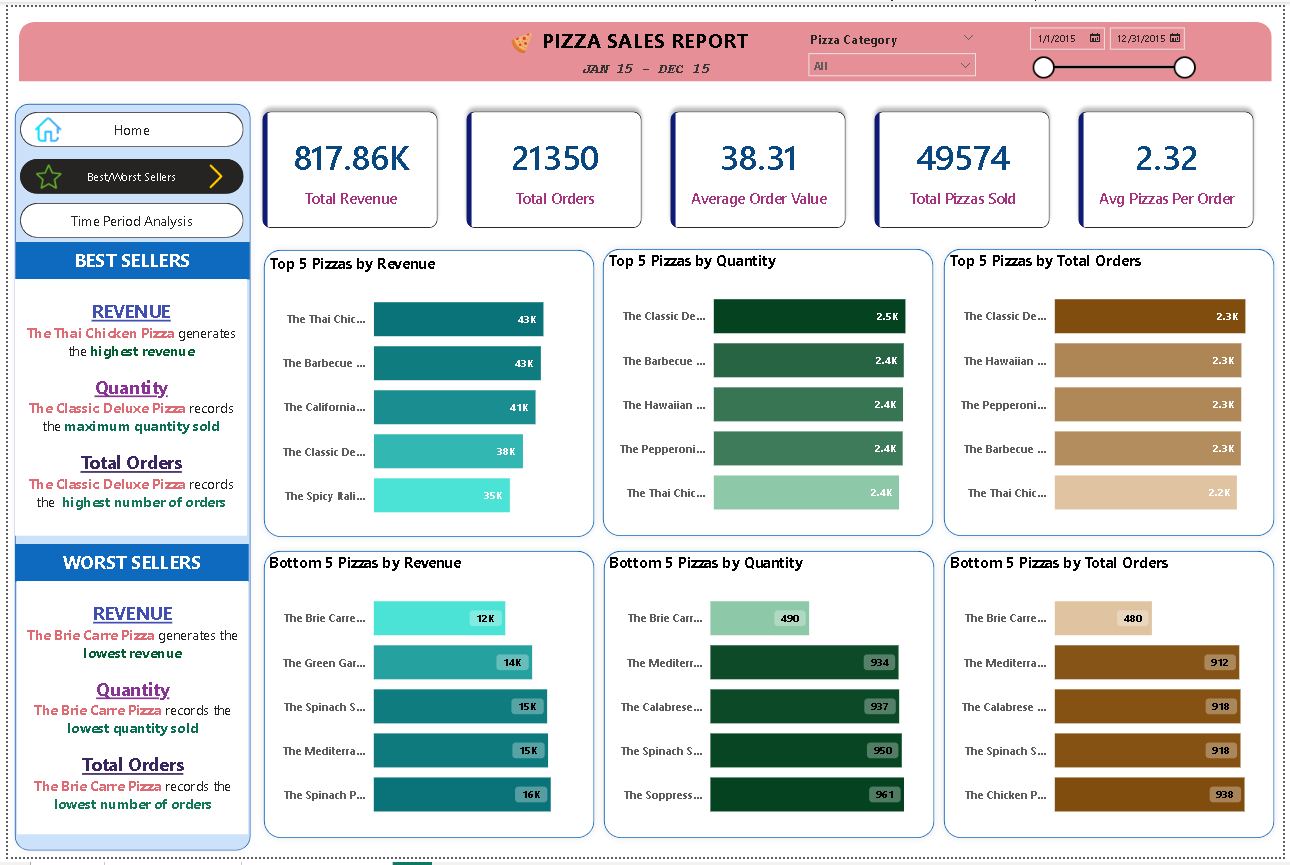

Layout of this report page (visuals, bound fields, positions):
{"tool":"powerbi","page":{"name":"Best/Worst Sellers","canvas":[1500,1000],"ordinal":1},"visuals":[{"type":"cardVisual","fields":{"Data":["Pizza_Sales.Total Revenue","Pizza_Sales.Total Orders","Pizza_Sales.Average Order Value","Pizza_Sales.Total Pizzas Sold","Pizza_Sales.Average Pizzas Per Order"]},"box":[282.1,105.4,1203.6,171.4],"z":0},{"type":"shape","box":[12.5,17.5,1473.8,70],"z":1000},{"type":"textbox","box":[605,17.5,290,56.2],"z":2000},{"type":"textbox","box":[668.3,58.3,163.3,30],"z":3000},{"type":"shape","box":[292.9,277.1,405,354],"z":4000},{"type":"shape","box":[0,105.6,293.3,894.4],"z":5000},{"type":"textbox","box":[9,277,275,44],"z":6000},{"type":"textbox","box":[8.3,320,273.3,301.7],"z":7000},{"type":"textbox","box":[8.8,631.2,275,43.8],"z":8000},{"type":"textbox","box":[10,675.6,272.2,297.8],"z":9000},{"type":"slicer","fields":{"Values":["Pizza_Sales.pizza_category"]},"box":[932.2,22.2,216.7,60],"z":10000},{"type":"slicer","fields":{"Values":["Pizza_Sales.order_date"]},"box":[1188.9,14.4,215.6,74.4],"z":11000},{"type":"shape","box":[692.2,276.7,405,354],"z":12000},{"type":"shape","box":[1093.3,276.7,405,354],"z":13000},{"type":"shape","box":[292.9,631.4,405,354],"z":14000},{"type":"shape","box":[692.9,631.4,405,354],"z":15000},{"type":"shape","box":[1092.9,631.4,405,354],"z":16000},{"type":"clusteredBarChart","title":"Top 5 Pizzas by Revenue","fields":{"Y":["Pizza_Sales.Total Revenue"],"Category":["Pizza_Sales.pizza_name"]},"box":[303,290,383,331],"z":17000},{"type":"clusteredBarChart","title":"Top 5 Pizzas by Quantity","fields":{"Y":["Sum(Pizza_Sales.quantity)"],"Category":["Pizza_Sales.pizza_name"]},"box":[702.5,287.5,383.8,331.2],"z":18000},{"type":"clusteredBarChart","title":"Top 5 Pizzas by Total Orders","fields":{"Category":["Pizza_Sales.pizza_name"],"Y":["Pizza_Sales.Total Orders"]},"box":[1103.8,287.5,383.8,331.2],"z":19000},{"type":"clusteredBarChart","title":"Bottom 5 Pizzas by Revenue","fields":{"Y":["Pizza_Sales.Total Revenue"],"Category":["Pizza_Sales.pizza_name"]},"box":[302.5,642.5,383.8,331.2],"z":20000},{"type":"clusteredBarChart","title":"Bottom 5 Pizzas by Quantity","fields":{"Y":["Sum(Pizza_Sales.quantity)"],"Category":["Pizza_Sales.pizza_name"]},"box":[702.5,642.5,383.8,331.2],"z":21000},{"type":"clusteredBarChart","title":"Bottom 5 Pizzas by Total Orders","fields":{"Category":["Pizza_Sales.pizza_name"],"Y":["Pizza_Sales.Total Orders"]},"box":[1103.8,642.5,383.8,331.2],"z":22000},{"type":"pageNavigator","box":[13.8,124,263.8,41.2],"z":23000},{"type":"pageNavigator","box":[13.8,179,263.8,41.2],"z":24000},{"type":"pageNavigator","box":[13.8,230,263.8,41.2],"z":25000},{"type":"image","box":[228.7,184.7,33.3,28.7],"z":26000},{"type":"image","box":[32.4,128.8,30.6,31.8],"z":27000},{"type":"image","box":[32.5,184,30,31],"z":28000},{"type":"image","box":[592.3,26.9,25.4,31.5],"z":29000}]}

Visuals, with their boxes in screenshot pixels (x1, y1, x2, y2), scaled from the page's 1500x1000 canvas onto the 1290x865 screenshot:
cardVisual - Pizza_Sales.Total Revenue x Pizza_Sales.Total Orders: <box>243,91,1278,239</box>
shape: <box>11,15,1278,76</box>
textbox: <box>520,15,770,64</box>
textbox: <box>575,50,715,76</box>
shape: <box>252,240,600,546</box>
shape: <box>0,91,252,864</box>
textbox: <box>8,240,244,278</box>
textbox: <box>7,277,242,538</box>
textbox: <box>8,546,244,584</box>
textbox: <box>9,584,243,842</box>
slicer - Pizza_Sales.pizza_category: <box>802,19,988,71</box>
slicer - Pizza_Sales.order_date: <box>1022,12,1208,77</box>
shape: <box>595,239,944,546</box>
shape: <box>940,239,1289,546</box>
shape: <box>252,546,600,852</box>
shape: <box>596,546,944,852</box>
shape: <box>940,546,1288,852</box>
"Top 5 Pizzas by Revenue" clusteredBarChart: <box>261,251,590,537</box>
"Top 5 Pizzas by Quantity" clusteredBarChart: <box>604,249,934,535</box>
"Top 5 Pizzas by Total Orders" clusteredBarChart: <box>949,249,1279,535</box>
"Bottom 5 Pizzas by Revenue" clusteredBarChart: <box>260,556,590,842</box>
"Bottom 5 Pizzas by Quantity" clusteredBarChart: <box>604,556,934,842</box>
"Bottom 5 Pizzas by Total Orders" clusteredBarChart: <box>949,556,1279,842</box>
pageNavigator: <box>12,107,239,143</box>
pageNavigator: <box>12,155,239,190</box>
pageNavigator: <box>12,199,239,235</box>
image: <box>197,160,225,185</box>
image: <box>28,111,54,139</box>
image: <box>28,159,54,186</box>
image: <box>509,23,531,51</box>
